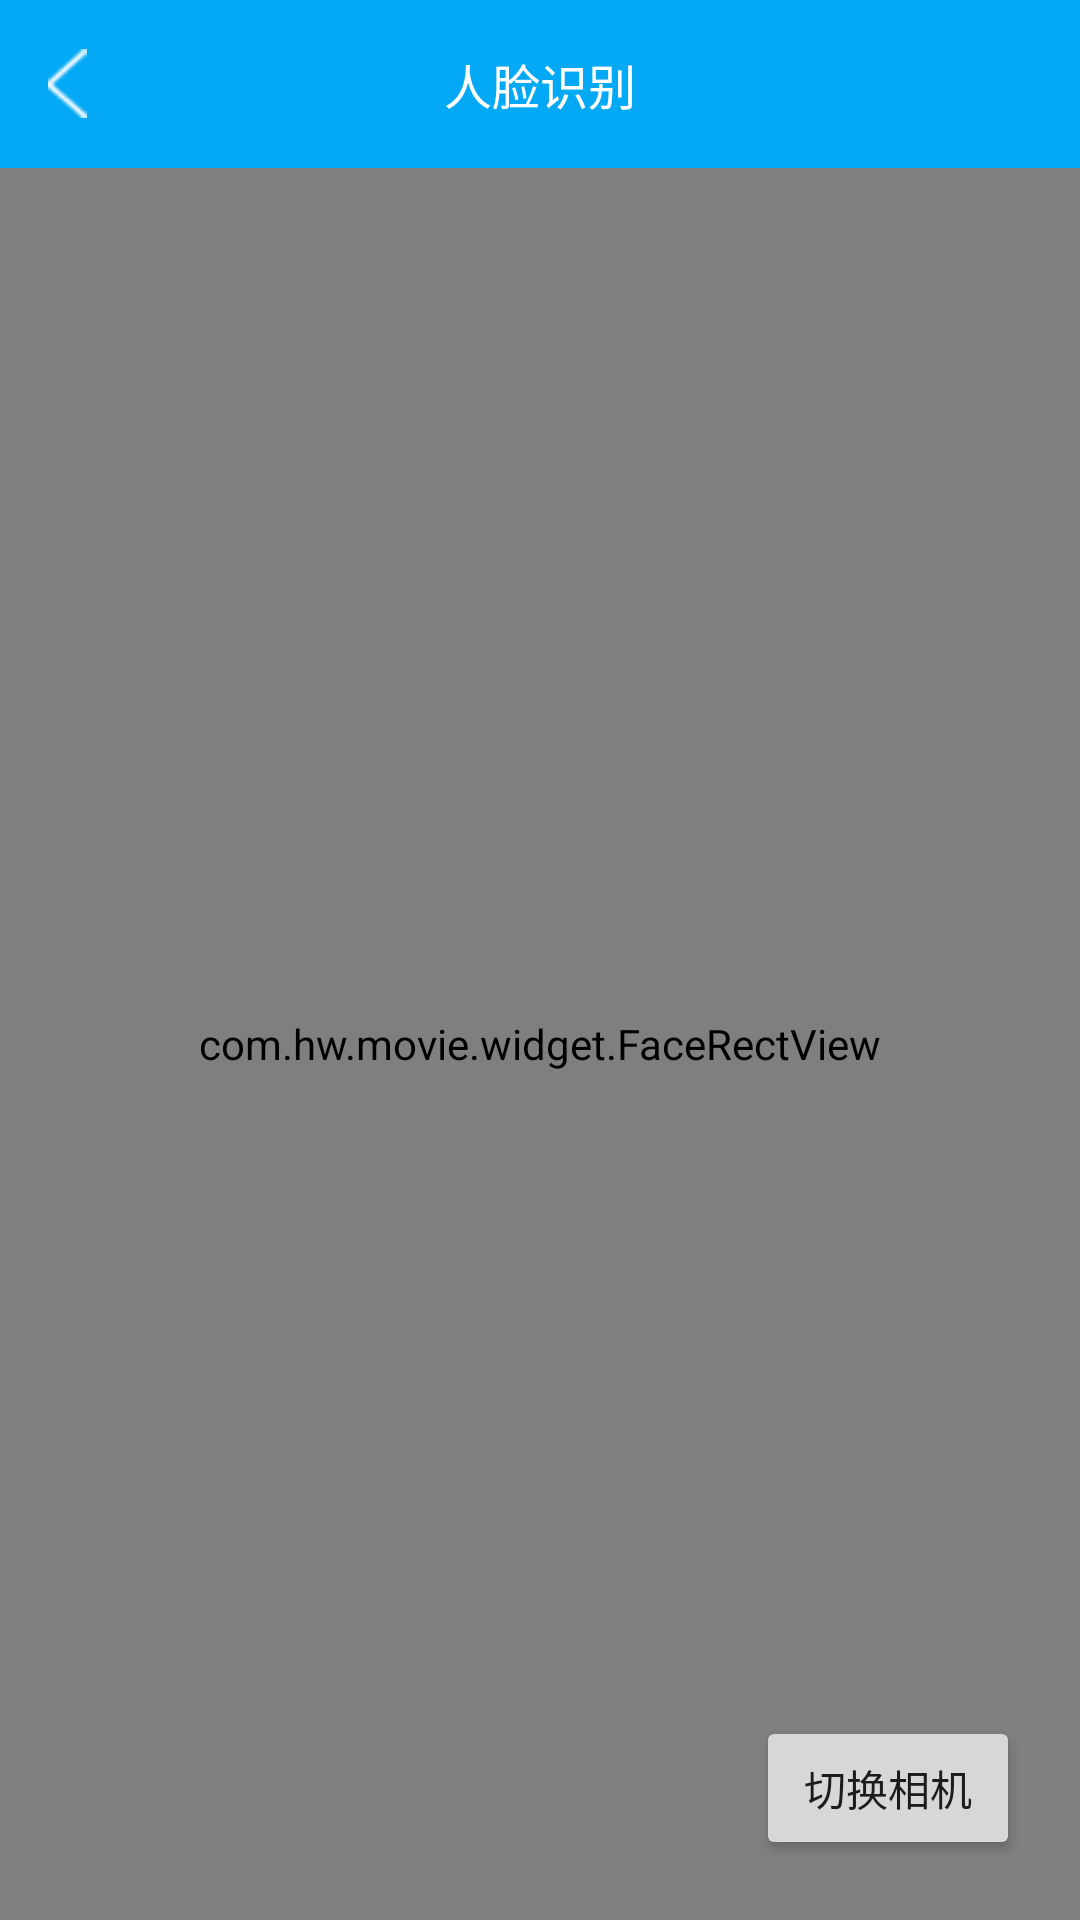

Icon click points for this 1080×1920 phone screenshot, format (x,y):
previous: (67,83)
